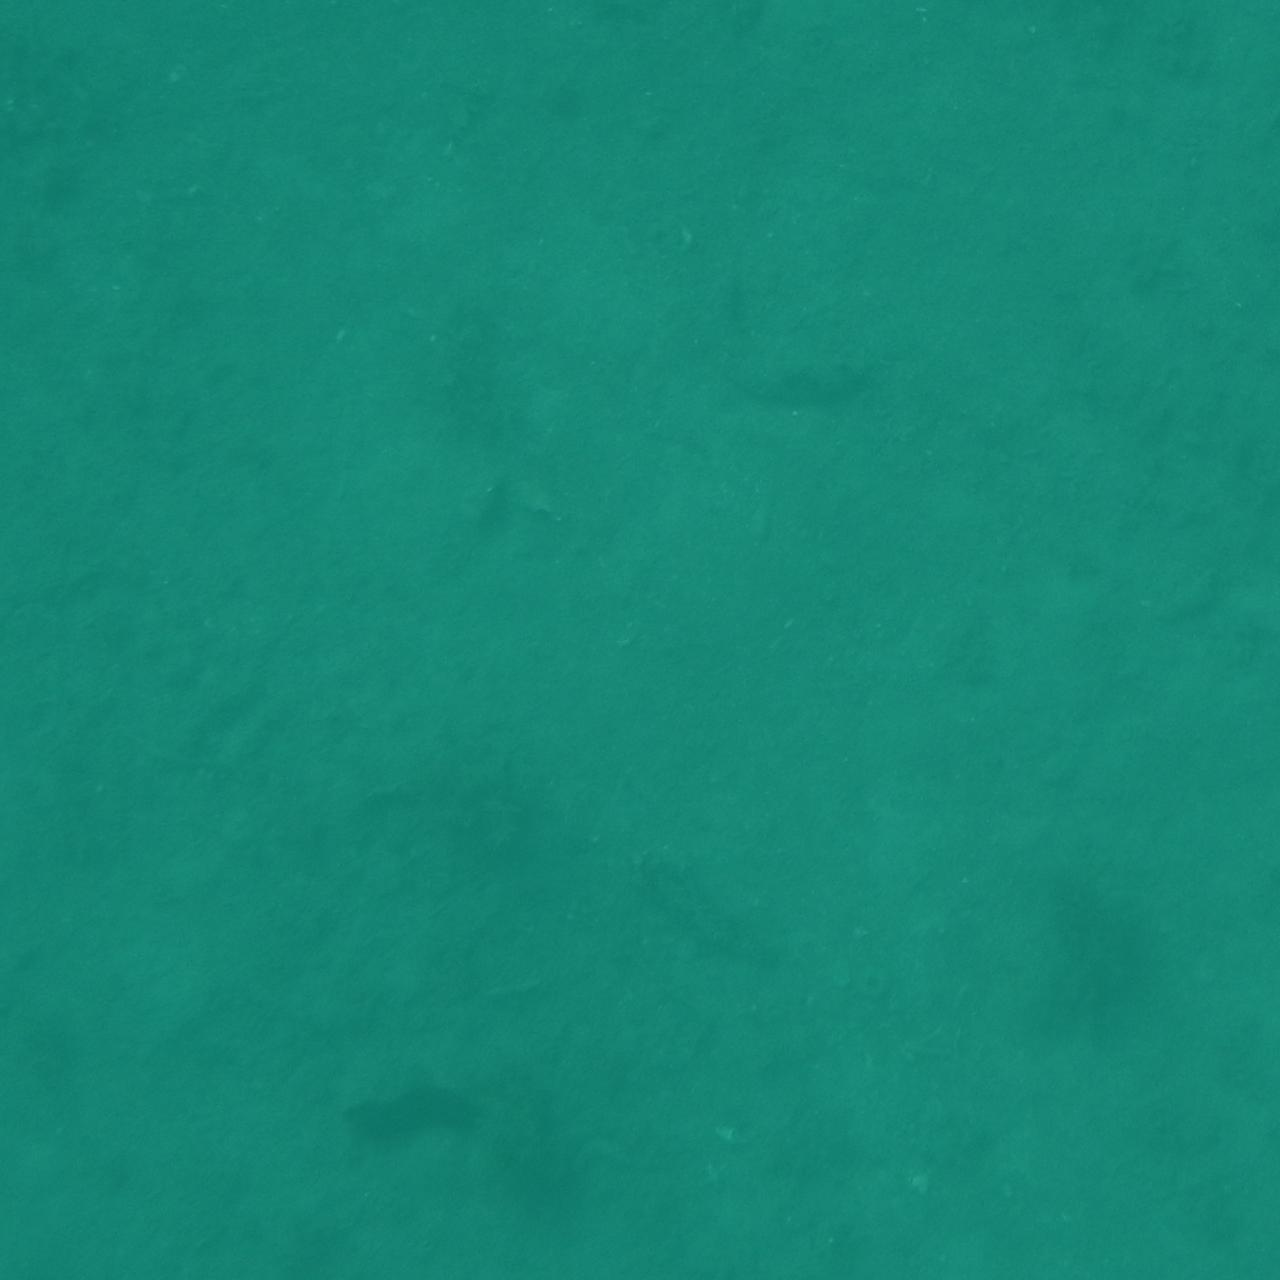Holothuria tubulosa: (606, 812, 812, 1014), (1122, 72, 1280, 257), (704, 313, 921, 437), (306, 1065, 546, 1157), (544, 0, 666, 132), (1162, 277, 1280, 411), (0, 1167, 109, 1280), (0, 1146, 68, 1280), (1143, 0, 1280, 56)
